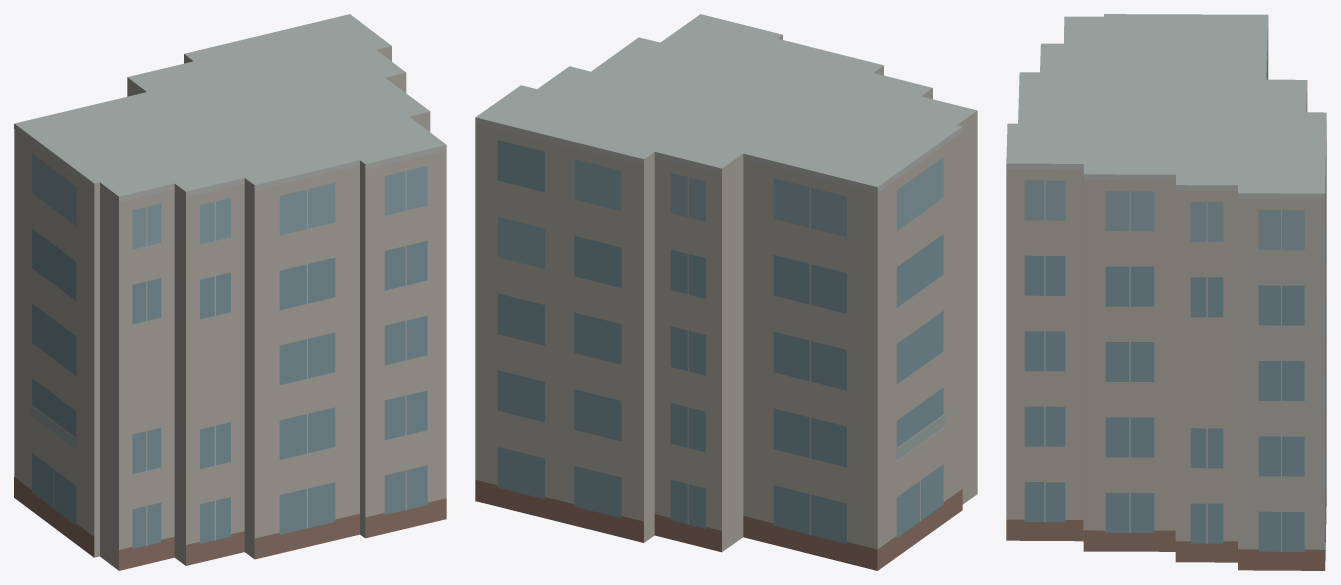
File: survey-upis-32539119.glb
3 views of the same model, side by side, from view 1: azimuth 30°, elevation 25°; view 2: azimuth 150°, elevation 25°; view 3: azimuth 270°, elevation 25° (orthographic). The views are drawn at different scales.
Visible parts, largest first — view 1: survey-upis-32539119.tmp; view 2: survey-upis-32539119.tmp; view 3: survey-upis-32539119.tmp.
Part boxes in pixels (x1,y1,x2,y2): survey-upis-32539119.tmp: [14, 14, 446, 570]; survey-upis-32539119.tmp: [475, 14, 977, 570]; survey-upis-32539119.tmp: [1006, 14, 1326, 570].
Bounding box in the file's own units: 16.59 × 16.2 × 12.48.
